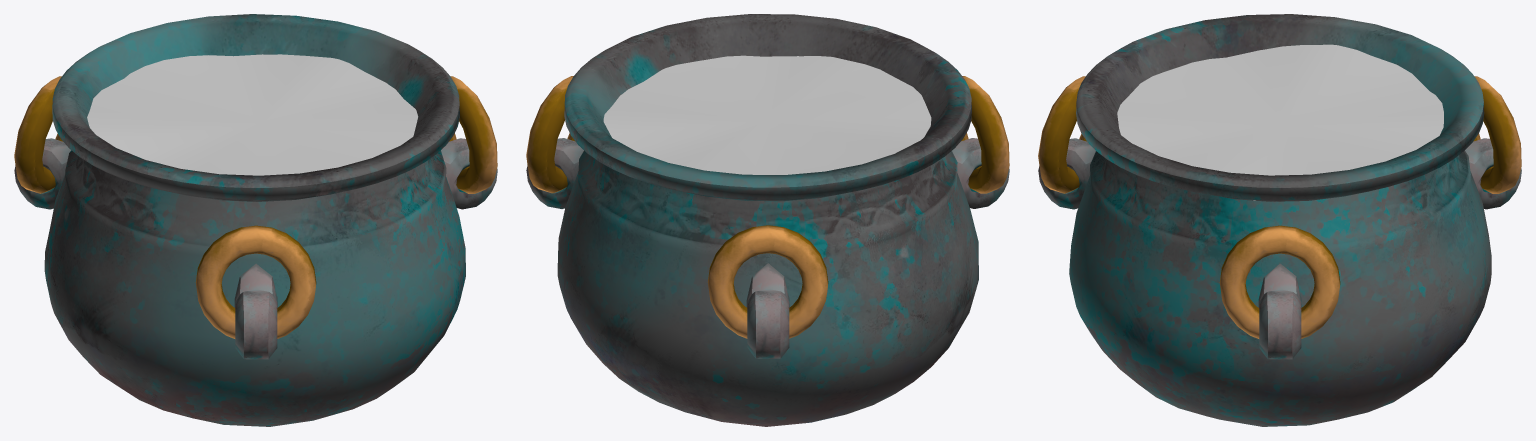
File: SM_Potion_Props_Pot_01_E.fbx
The picture shows the model from 3 angles, left to right: view 1: azimuth 30°, elevation 25°; view 2: azimuth 150°, elevation 25°; view 3: azimuth 270°, elevation 25°; orthographic projection.
Visible parts, largest first — view 1: SM_Potion_Props_Pot_01_E_LOD0; view 2: SM_Potion_Props_Pot_01_E_LOD0; view 3: SM_Potion_Props_Pot_01_E_LOD0.
Boxes of the visible parts, x1,y1,x2,y2 form: SM_Potion_Props_Pot_01_E_LOD0: (14,14,497,426); SM_Potion_Props_Pot_01_E_LOD0: (526,14,1009,426); SM_Potion_Props_Pot_01_E_LOD0: (1038,14,1521,426).
Size of what is drawn, in the model's own units: 111 by 77.1 by 111.
